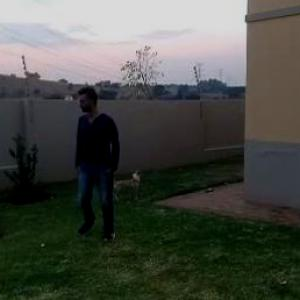follow: (74, 84, 125, 242)
